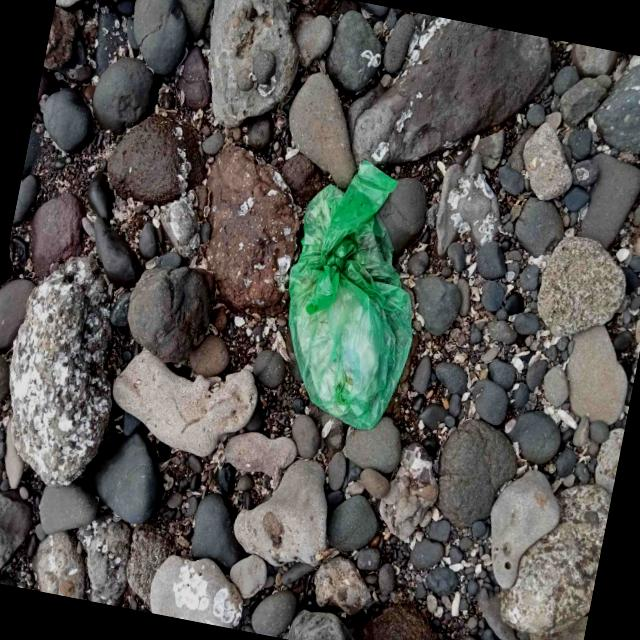nhua: (289, 160, 412, 430)
